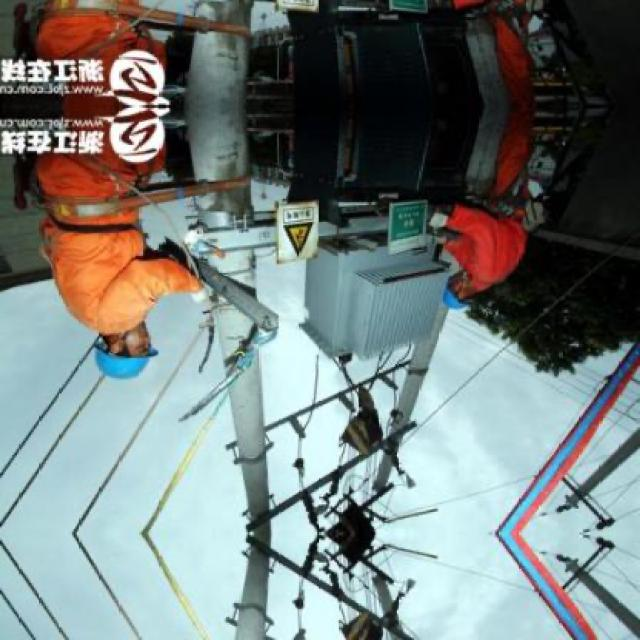con casco: (38, 308, 210, 395), (406, 276, 495, 352)
